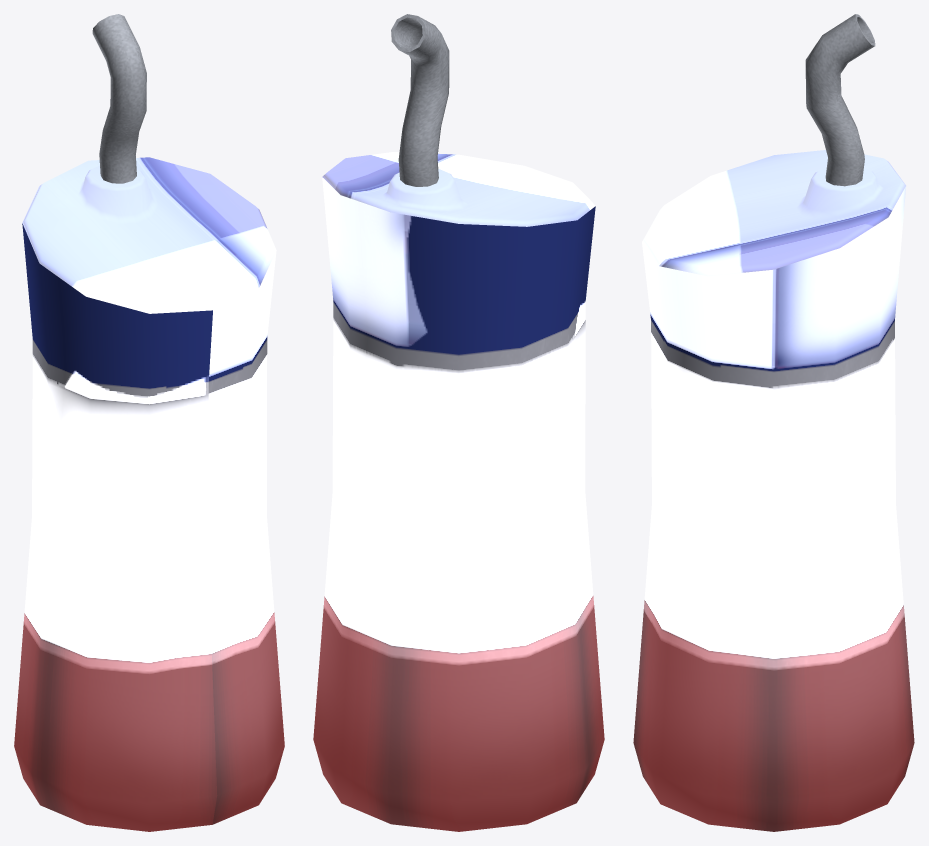
File: SM_SoyBottle_02.fbx
3 views of the same model, side by side, from view 1: azimuth 30°, elevation 25°; view 2: azimuth 150°, elevation 25°; view 3: azimuth 270°, elevation 25° (orthographic). The views are drawn at different scales.
Parts seen in each view (by area): view 1: SM_SoyBottle_02_LOD0; view 2: SM_SoyBottle_02_LOD0; view 3: SM_SoyBottle_02_LOD0.
Part boxes in pixels (x1,y1,x2,y2): SM_SoyBottle_02_LOD0: (14,14,284,831); SM_SoyBottle_02_LOD0: (313,14,604,831); SM_SoyBottle_02_LOD0: (633,14,914,831).
Size of the model in its own units: 6.13 by 6.13 by 18.61.
